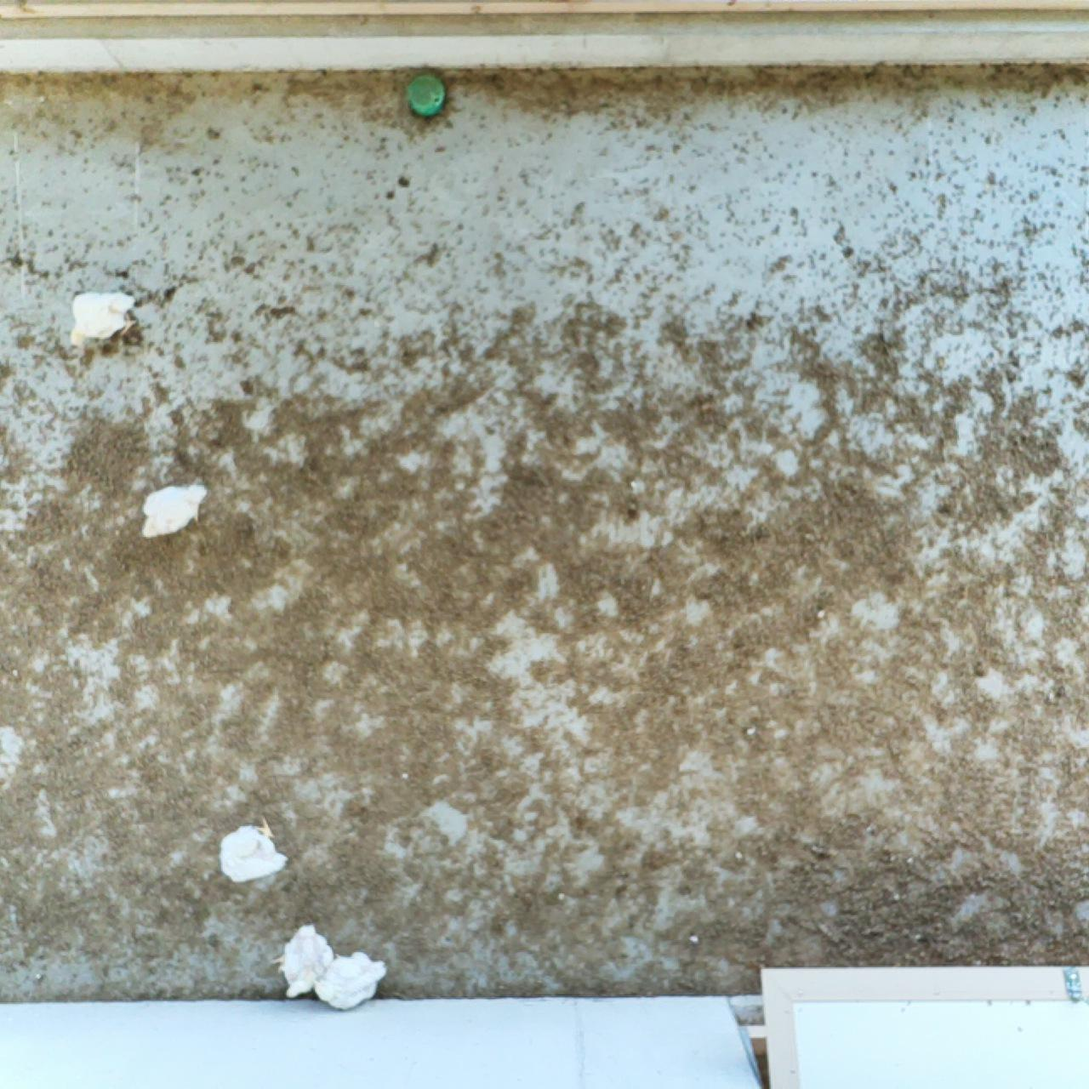chicken: (219, 814, 289, 884), (273, 922, 335, 1000), (313, 950, 390, 1011), (70, 291, 139, 351), (140, 483, 208, 540)
